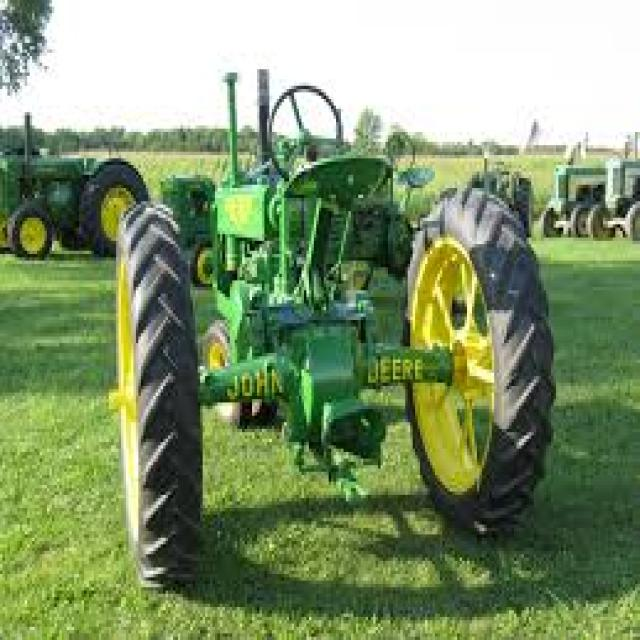tractor: (116, 73, 554, 584), (0, 155, 146, 257), (541, 165, 603, 238), (588, 158, 638, 241)
